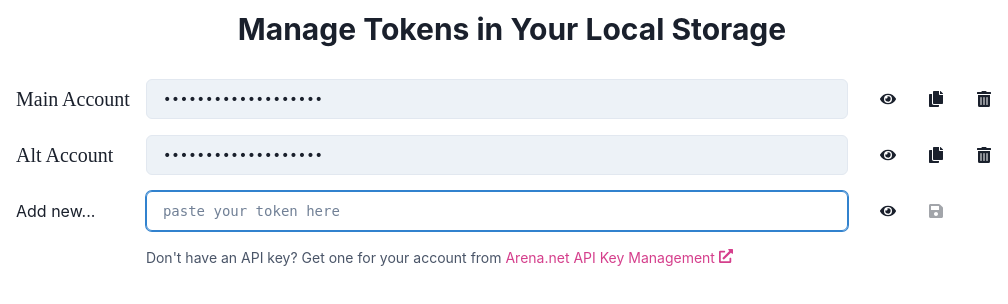
Settings › shows error message when saving an invalid token
Type "bad-token" into the password field with placeholder "paste your token here" at (497,211), box [146,191,848,231]
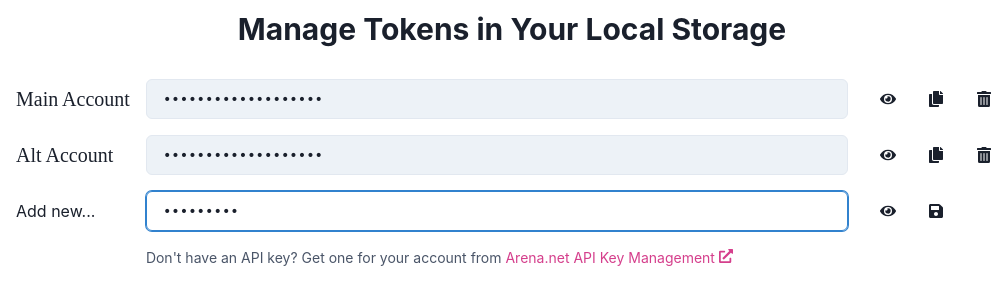
Click the 8th button at (936,211), box [912,191,960,231]
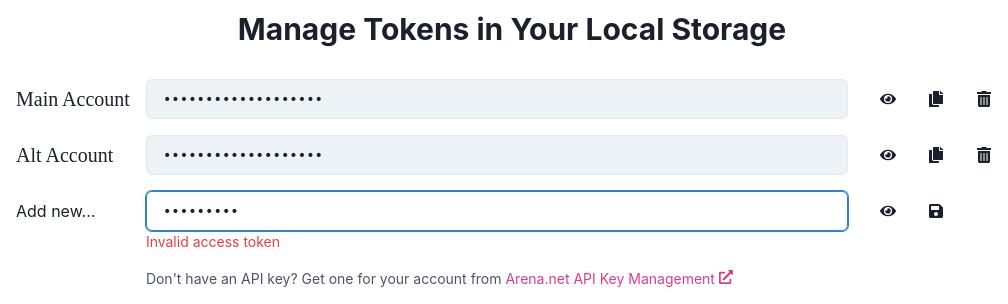
Now the text "Invalid access token" is shown, box [146,233,280,250]
